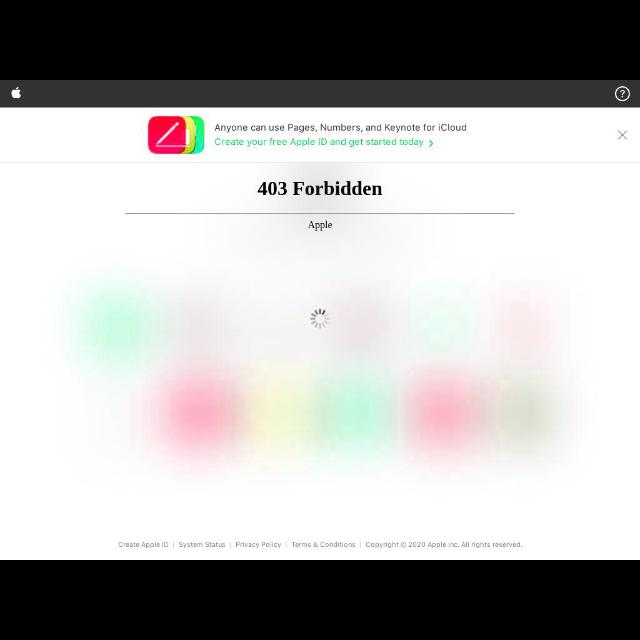icon: (310, 310, 328, 328), (614, 86, 630, 102), (10, 86, 22, 100)
iframe: (1, 108, 639, 162)
multitab: (120, 540, 524, 552)
text: (258, 180, 382, 198), (365, 540, 523, 550), (292, 541, 354, 549), (177, 540, 225, 550), (236, 540, 282, 550), (120, 540, 170, 548), (309, 220, 333, 232)
